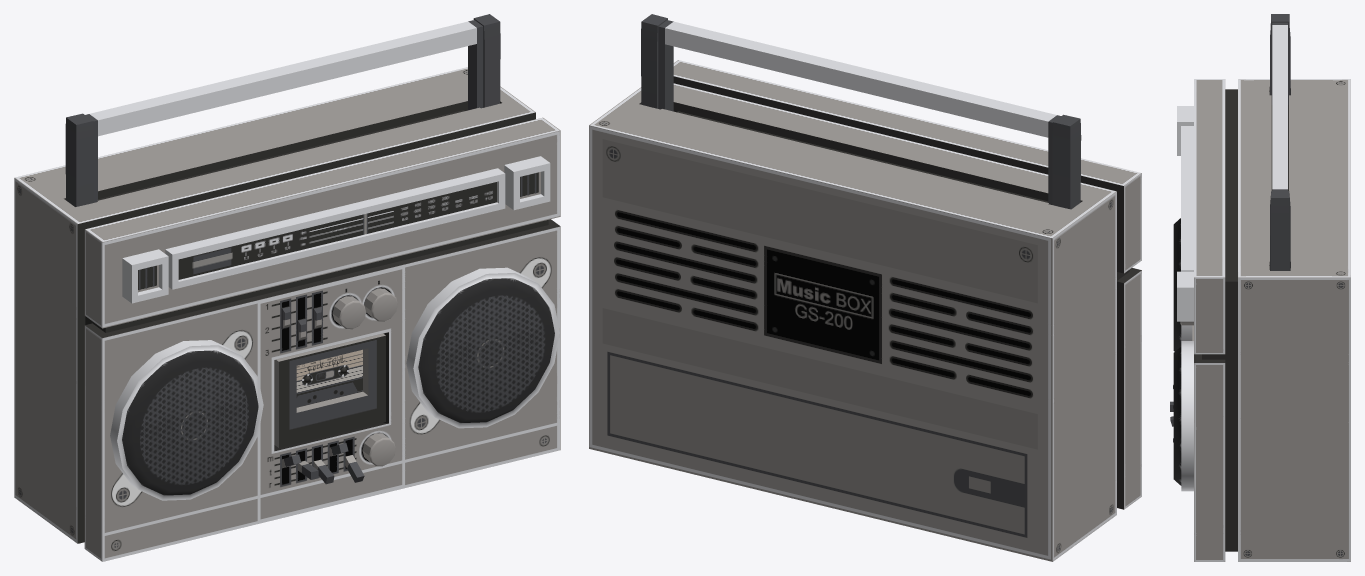
The picture shows the model from 3 angles, left to right: view 1: azimuth 30°, elevation 25°; view 2: azimuth 150°, elevation 25°; view 3: azimuth 270°, elevation 25°; orthographic projection. The views are drawn at different scales.
Parts seen in each view (by area): view 1: Boom_Box1, Grip, Cassette1, Switches_4; view 2: Boom_Box1, Grip; view 3: Boom_Box1, Grip.
Boxes of the visible parts, x1,y1,x2,y2 form: Boom_Box1: (14,67,560,561); Grip: (65,14,500,206); Cassette1: (274,333,385,447); Switches_4: (282,443,364,484); Boom_Box1: (589,60,1141,561); Grip: (641,14,1081,209); Boom_Box1: (1173,79,1350,561); Grip: (1270,14,1290,270).
Size of the model in its own units: 300 by 251 by 115.
1 material, 1 textured.
